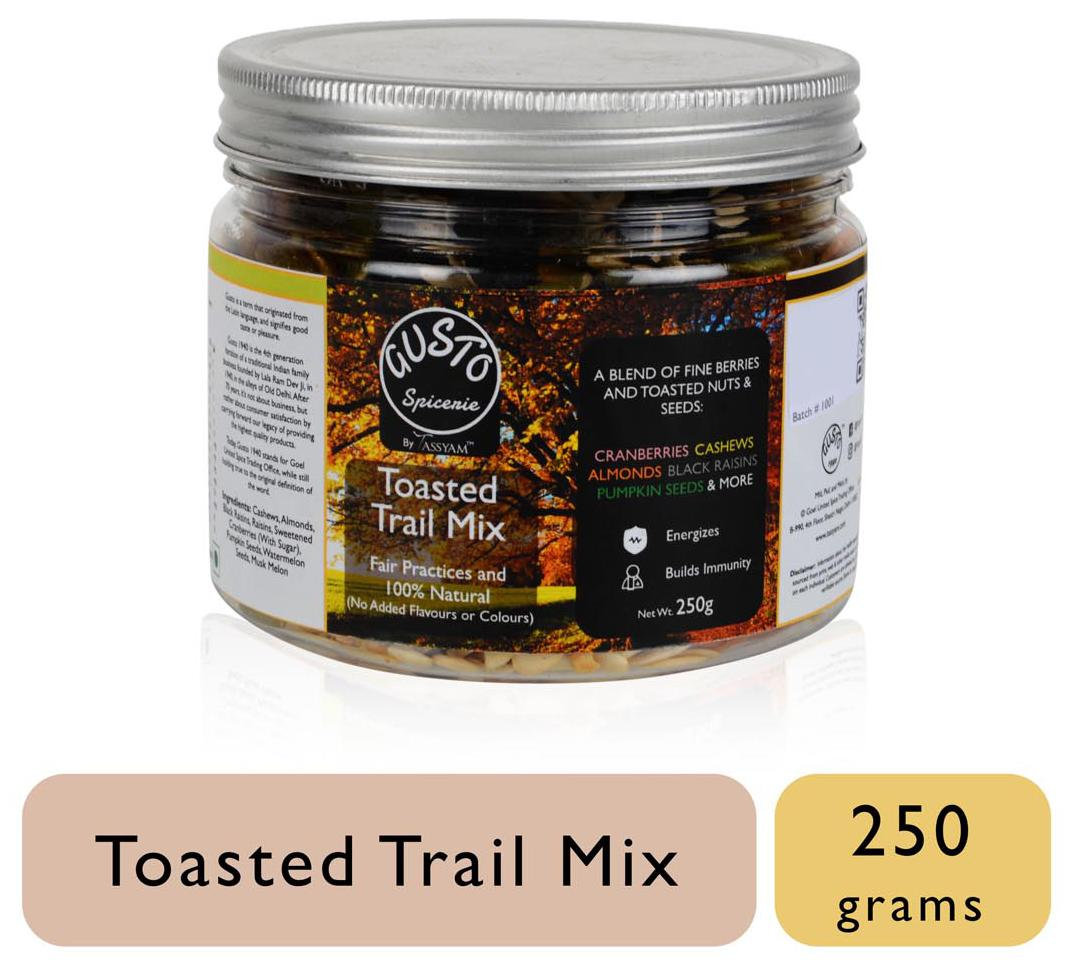JAR: (199, 12, 873, 694)
